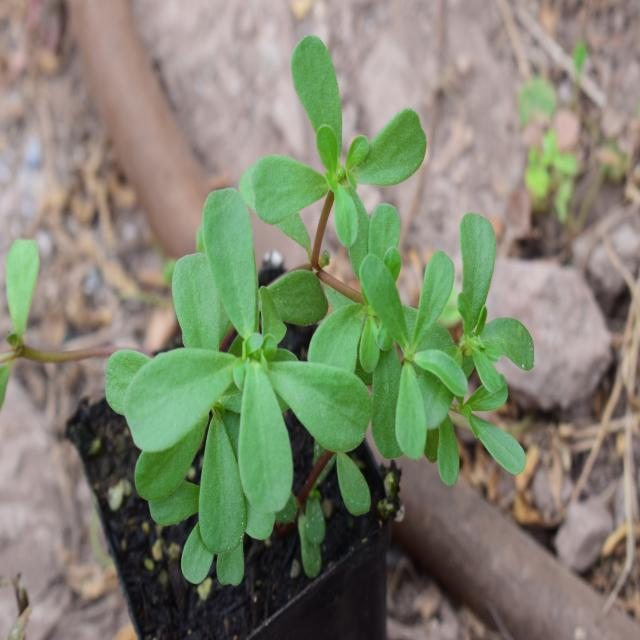purslane: (126, 56, 540, 560)
